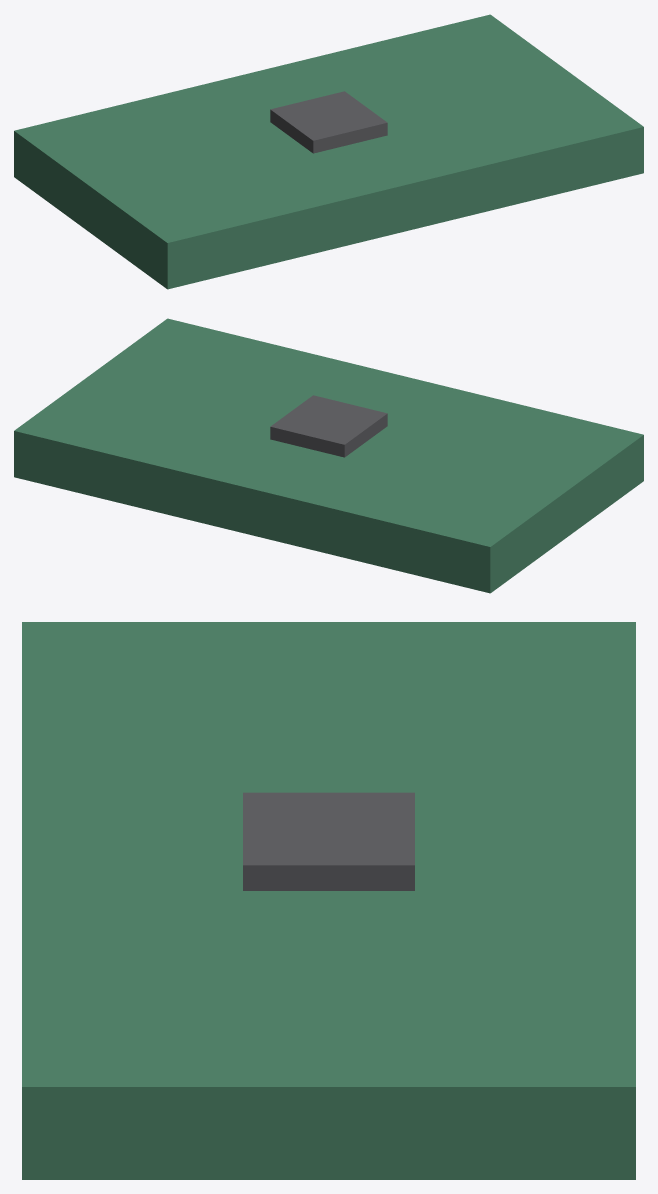
File: microsd-module.glb
3 views of the same model, one above another, from view 1: azimuth 30°, elevation 25°; view 2: azimuth 150°, elevation 25°; view 3: azimuth 270°, elevation 25° (orthographic). The views are drawn at different scales.
Parts seen in each view (by area): view 1: microsd-module-pcb, microsd-module-ic; view 2: microsd-module-pcb, microsd-module-ic; view 3: microsd-module-pcb, microsd-module-ic.
Part boxes in pixels (x1=…): microsd-module-pcb: x1=14, y1=14, x2=643, y2=289; microsd-module-ic: x1=270, y1=91, x2=387, y2=153; microsd-module-pcb: x1=14, y1=318, x2=643, y2=593; microsd-module-ic: x1=270, y1=395, x2=387, y2=457; microsd-module-pcb: x1=22, y1=622, x2=635, y2=1179; microsd-module-ic: x1=243, y1=792, x2=414, y2=890.
Bounding box in the file's own units: 0.043 × 0.0051 × 0.024.
